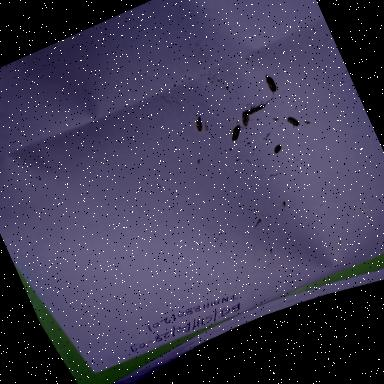pbw: (243, 97, 273, 120), (226, 120, 254, 144), (234, 107, 259, 133), (261, 70, 283, 98), (284, 111, 304, 133), (190, 113, 209, 134), (270, 142, 286, 158)
